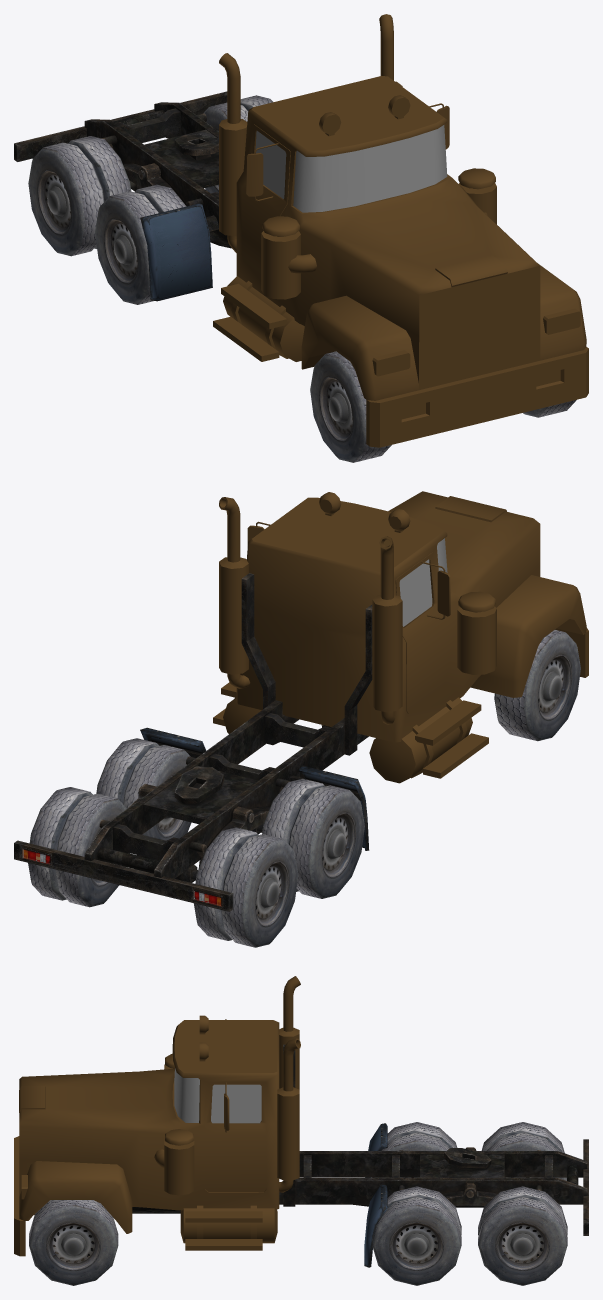
Rendered from truck.FBX.
3 views of the same model, one above another, from view 1: azimuth 30°, elevation 25°; view 2: azimuth 150°, elevation 25°; view 3: azimuth 270°, elevation 25° (orthographic). The views are drawn at different scales.
Parts seen in each view (by area): view 1: Object002, Wheel3R, Wheel2R, Wheel1R, DoorR, Wheel3L; view 2: Object002, Wheel3R, Wheel2R, Wheel3L, DoorR, Wheel1R, Wheel2L; view 3: Object002, Wheel3L, Wheel2L, DoorL, Wheel1L, Wheel3R, Wheel2R.
Boxes of the visible parts, <box> form: Object002: <box>14,14,588,447</box>; Wheel3R: <box>28,136,131,256</box>; Wheel2R: <box>95,184,186,304</box>; Wheel1R: <box>310,351,391,462</box>; DoorR: <box>241,124,290,273</box>; Wheel3L: <box>203,95,273,193</box>; Object002: <box>14,491,588,911</box>; Wheel3R: <box>193,827,298,947</box>; Wheel2R: <box>262,778,364,898</box>; Wheel3L: <box>28,787,129,907</box>; DoorR: <box>395,552,450,713</box>; Wheel1R: <box>494,629,580,741</box>; Wheel2L: <box>96,738,191,840</box>; Object002: <box>14,976,588,1267</box>; Wheel3L: <box>478,1186,567,1285</box>; Wheel2L: <box>372,1186,461,1285</box>; DoorL: <box>205,1082,266,1191</box>; Wheel1L: <box>29,1200,118,1285</box>; Wheel3R: <box>481,1122,566,1180</box>; Wheel2R: <box>372,1122,457,1177</box>.
Size of the model in its own units: 199 by 245 by 539.
